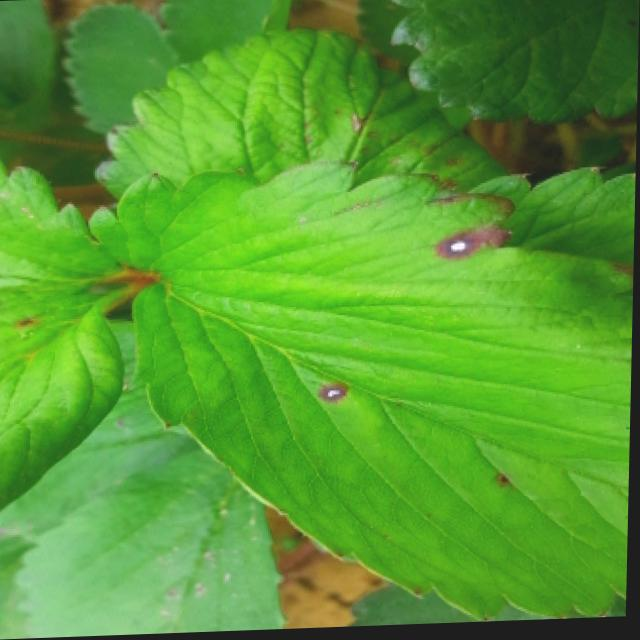Leaf Spot: (119, 162, 635, 626), (95, 24, 514, 199), (0, 150, 143, 511), (0, 529, 38, 640)
